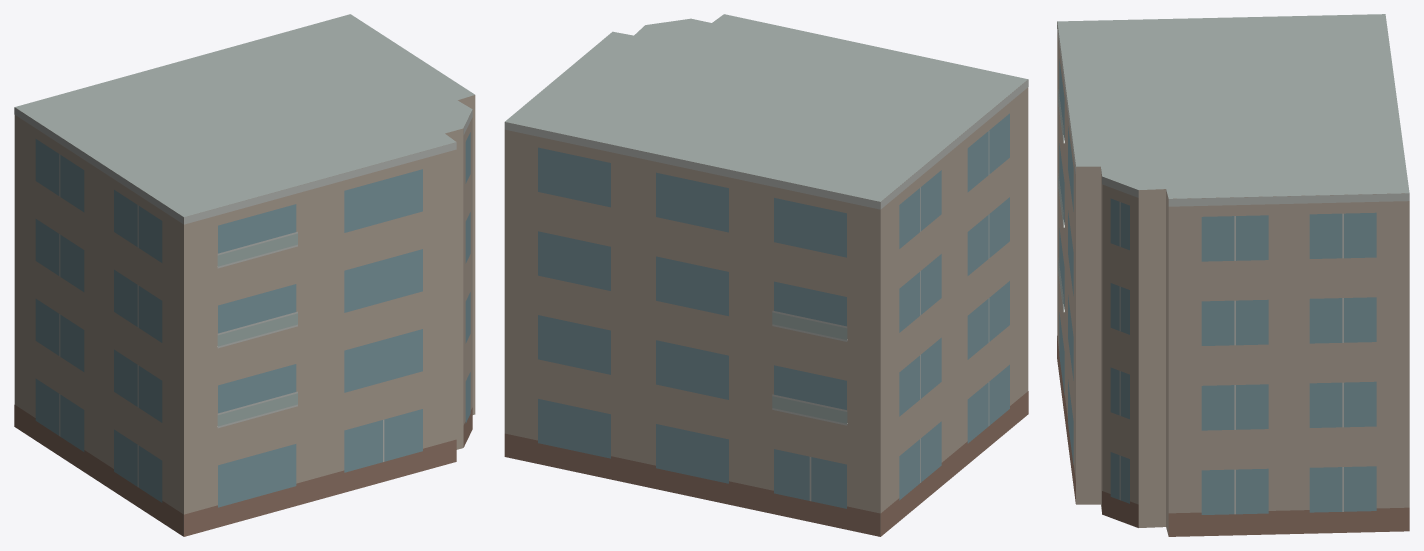
Rendered from survey-upis-32989680.glb.
3 renders of one model, left to right at view 1: azimuth 30°, elevation 25°; view 2: azimuth 150°, elevation 25°; view 3: azimuth 270°, elevation 25°, orthographic. The views are drawn at different scales.
Visible parts, largest first — view 1: survey-upis-32989680.tmp; view 2: survey-upis-32989680.tmp; view 3: survey-upis-32989680.tmp.
Part boxes in pixels (box(x1,y1,x2,y2)): survey-upis-32989680.tmp: box(14, 14, 475, 536); survey-upis-32989680.tmp: box(504, 14, 1028, 536); survey-upis-32989680.tmp: box(1057, 14, 1409, 536).
Bounding box in the file's own units: 12.33 × 10.5 × 9.93.
